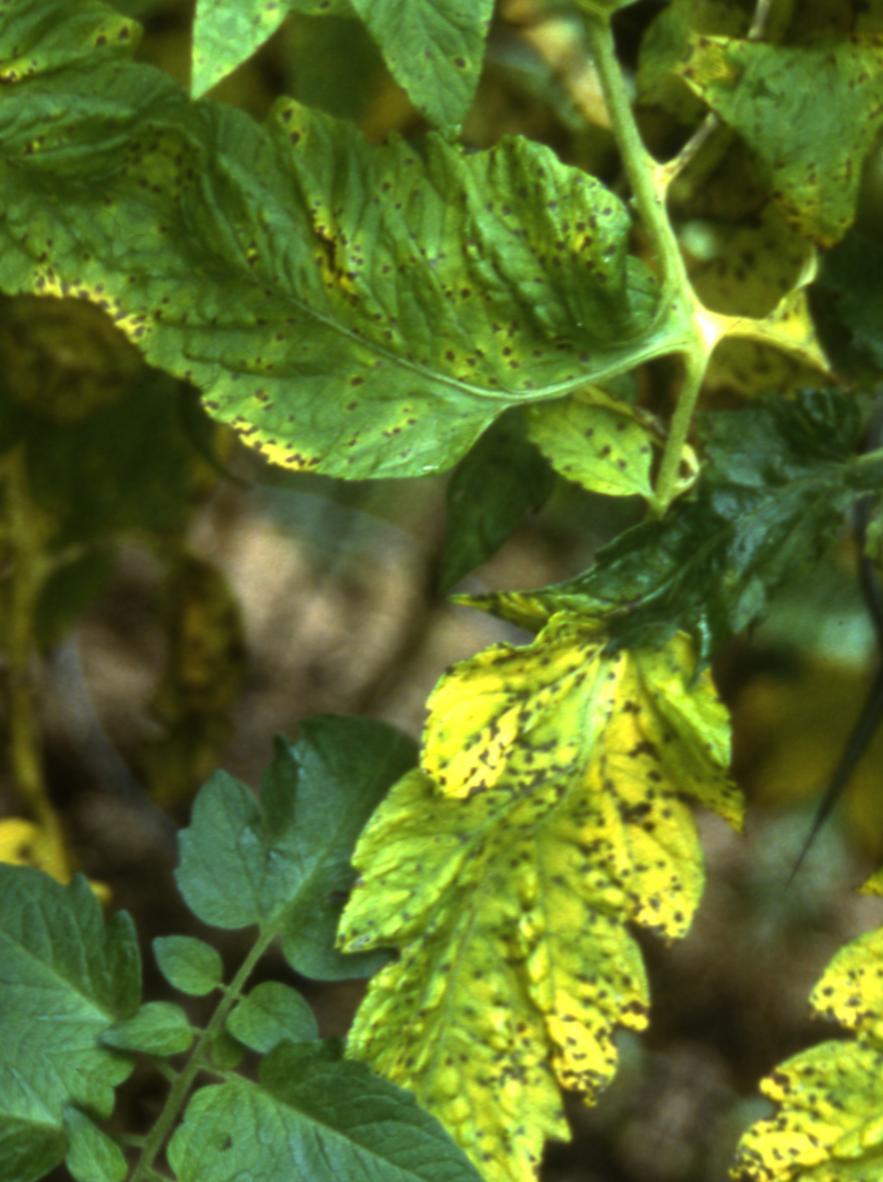Tomato Septoria leaf spot: (195, 444, 862, 1182), (49, 0, 794, 653), (219, 0, 575, 178)
